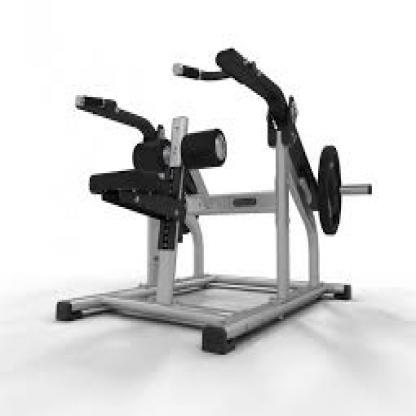seated dip machine: (57, 45, 374, 358)
